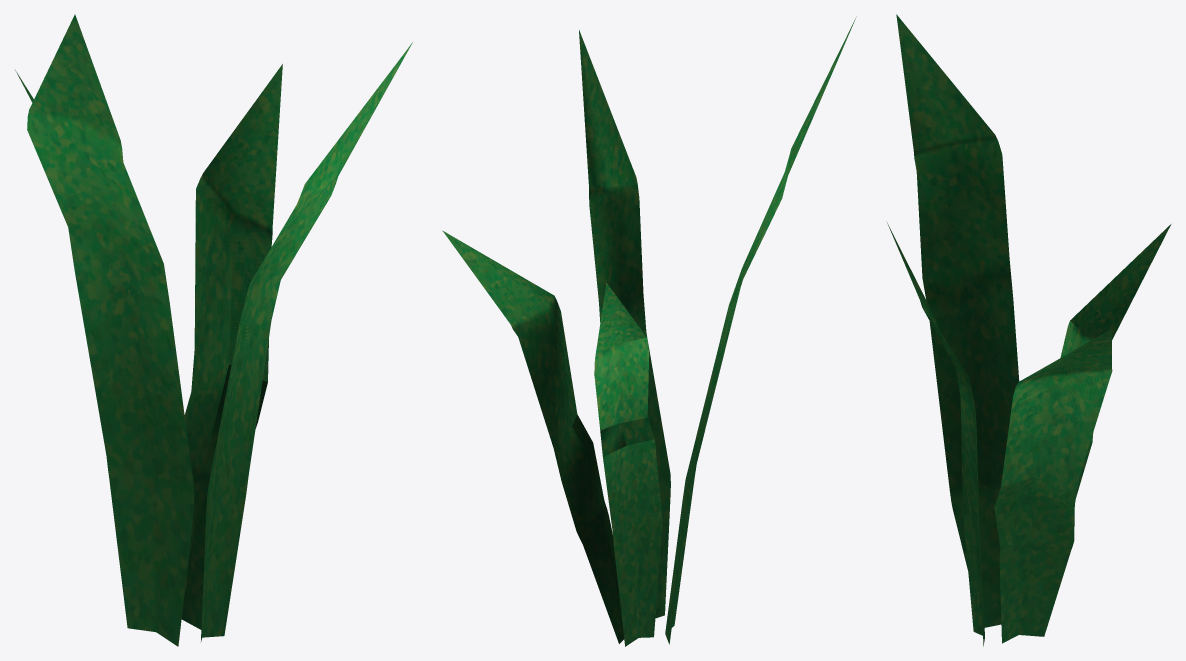
Rendered from Sm_Grass3.fbx.
3 renders of one model, left to right at view 1: azimuth 30°, elevation 25°; view 2: azimuth 150°, elevation 25°; view 3: azimuth 270°, elevation 25°, orthographic. The views are drawn at different scales.
Visible parts, largest first — view 1: Sm_Grass3; view 2: Sm_Grass3; view 3: Sm_Grass3.
Part boxes in pixels (box(x1,y1,x2,y2)): Sm_Grass3: box(15, 14, 412, 646); Sm_Grass3: box(442, 16, 856, 646); Sm_Grass3: box(886, 14, 1171, 646).
Size of the model in its own units: 45.16 by 88.93 by 41.44.
